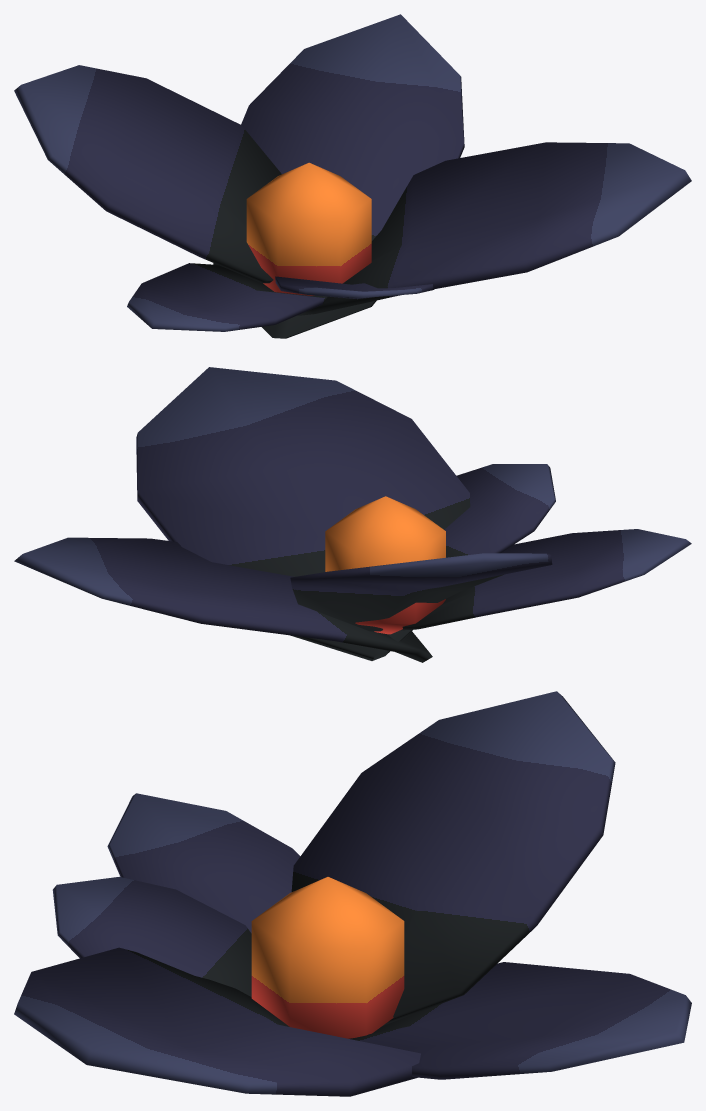
The model's file is Flower_1.fbx.
3 views of the same model, one above another, from view 1: azimuth 30°, elevation 25°; view 2: azimuth 150°, elevation 25°; view 3: azimuth 270°, elevation 25° (orthographic). The views are drawn at different scales.
Parts seen in each view (by area): view 1: Flower06; view 2: Flower06; view 3: Flower06.
Part boxes in pixels (x1=…): Flower06: x1=14, y1=14, x2=691, y2=338; Flower06: x1=14, y1=367, x2=691, y2=662; Flower06: x1=14, y1=691, x2=691, y2=1096.
Bounding box in the file's own units: 69.87 × 28.04 × 63.46.
Materials: 1 (1 with a texture image).
